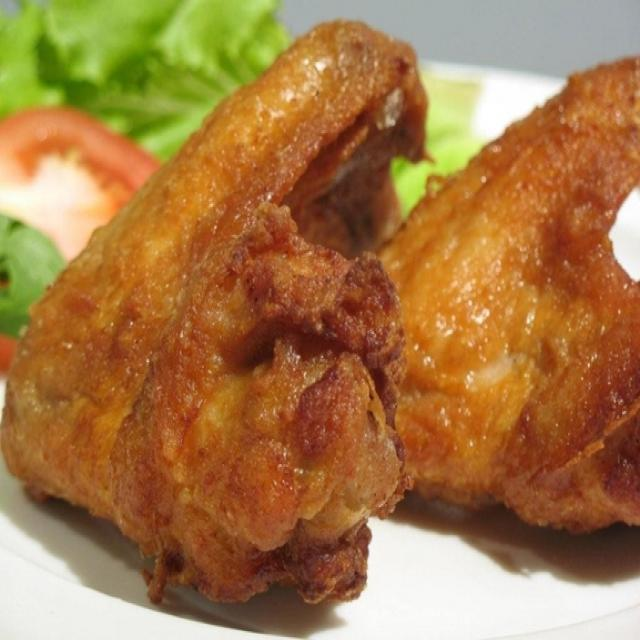Deep fried chicken wing: (9, 36, 417, 614)
